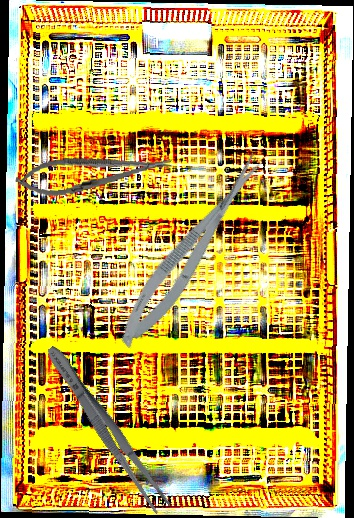Dressing Forceps: (39, 340, 175, 517)
Micro Scissor: (107, 147, 277, 356)
Needle Holder: (13, 145, 175, 202)
